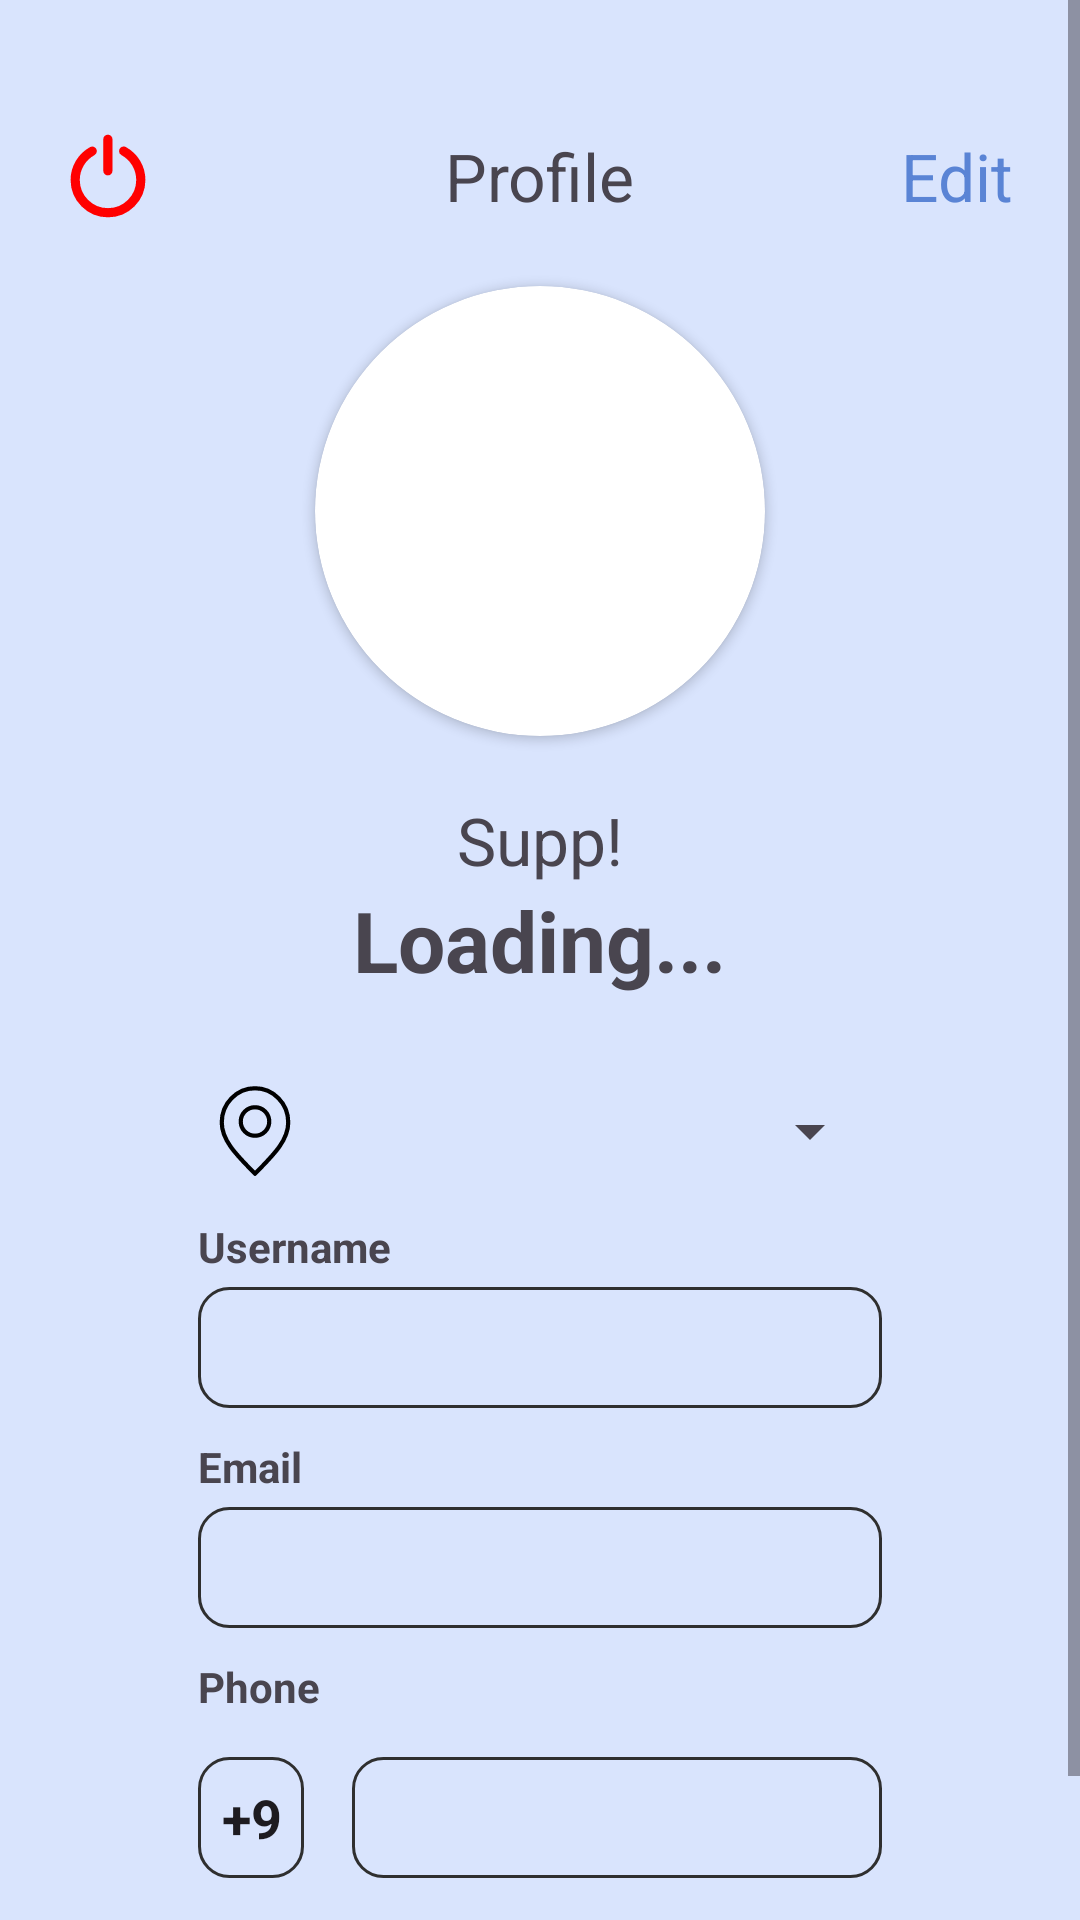

Where icons sit on this 1080px x 1920px app screen, as (x1, y1, x2, y2):
location: (219, 1086, 291, 1176)
